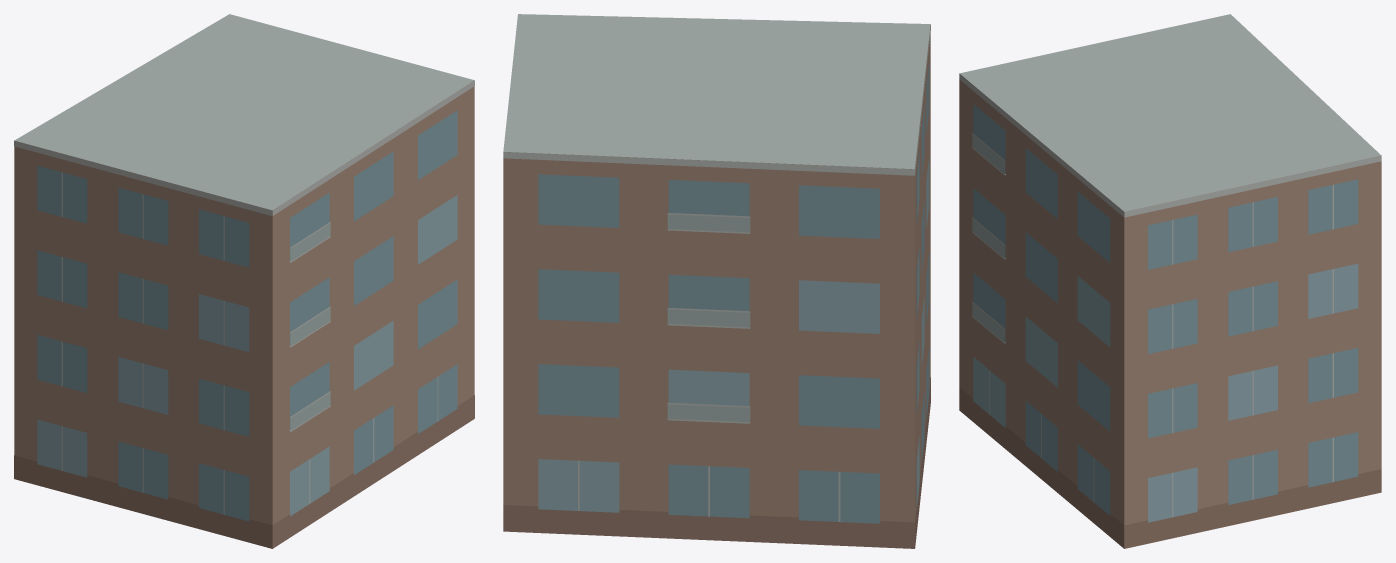
File: survey-upis-32458109.glb
3 renders of one model, left to right at view 1: azimuth 30°, elevation 25°; view 2: azimuth 150°, elevation 25°; view 3: azimuth 270°, elevation 25°, orthographic. The views are drawn at different scales.
Visible parts, largest first — view 1: survey-upis-32458109.tmp; view 2: survey-upis-32458109.tmp; view 3: survey-upis-32458109.tmp.
Boxes of the visible parts, left/top/right/bottom form: survey-upis-32458109.tmp: left=14, top=14, right=474, bottom=548; survey-upis-32458109.tmp: left=503, top=14, right=930, bottom=548; survey-upis-32458109.tmp: left=959, top=14, right=1381, bottom=548.
Bounding box in the file's own units: 17.83 × 14.15 × 16.07.
